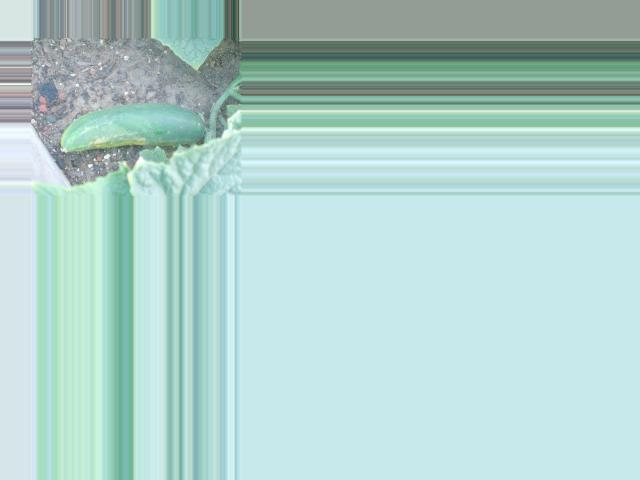cucumber: (60, 103, 203, 153)
